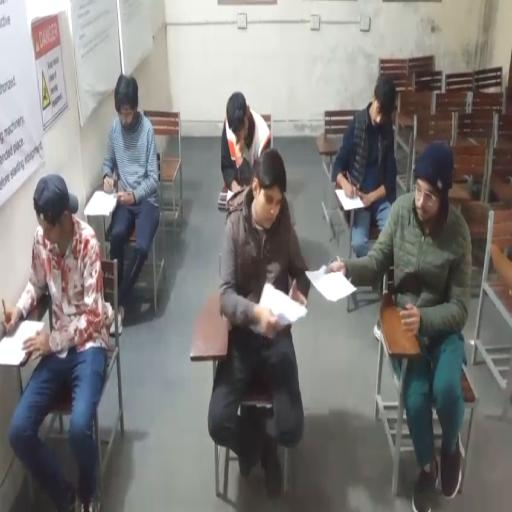paper: (0, 316, 45, 365), (259, 281, 306, 326), (305, 264, 355, 301), (84, 189, 118, 216), (334, 187, 367, 210), (226, 189, 236, 203)
